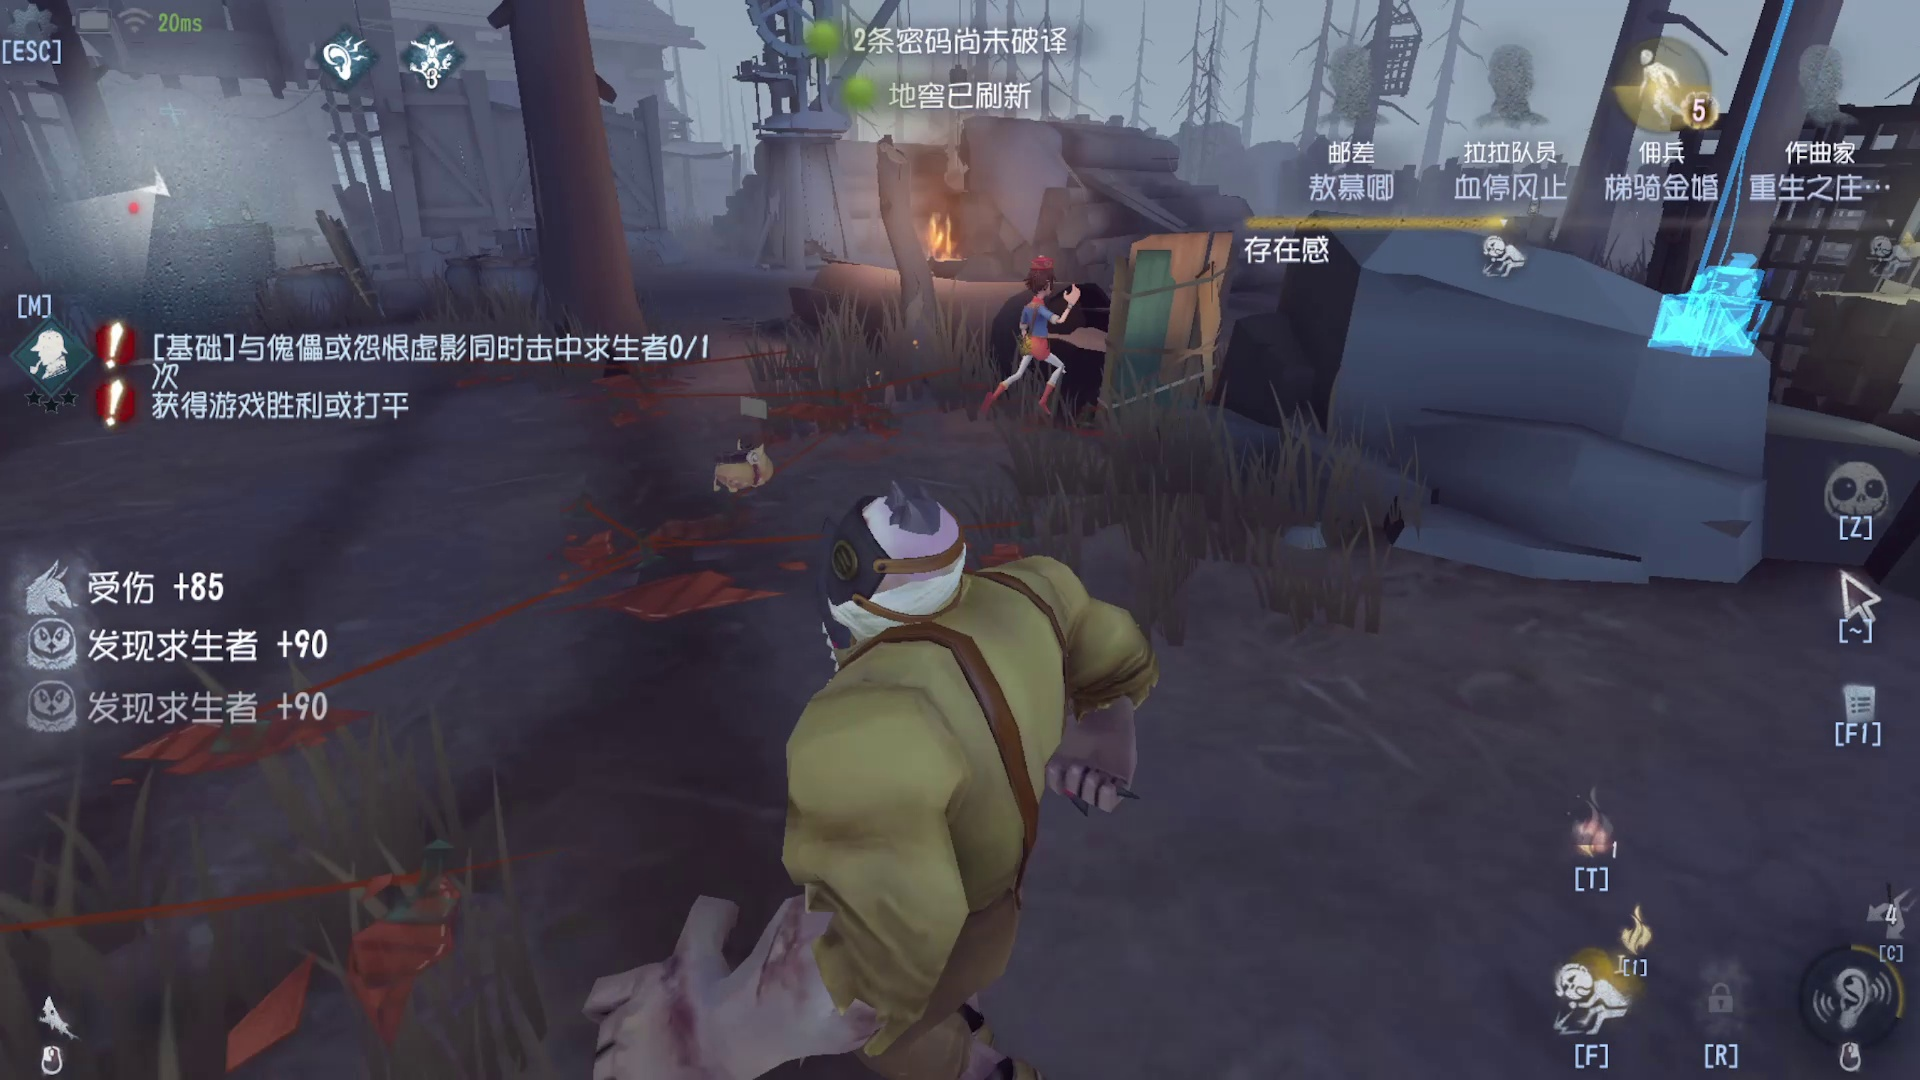密码机: (1650, 49, 1833, 372)
木板: (1102, 235, 1232, 452), (309, 189, 396, 326)
求生者: (1002, 243, 1077, 415)
脚印: (284, 538, 732, 942), (483, 361, 942, 531)
